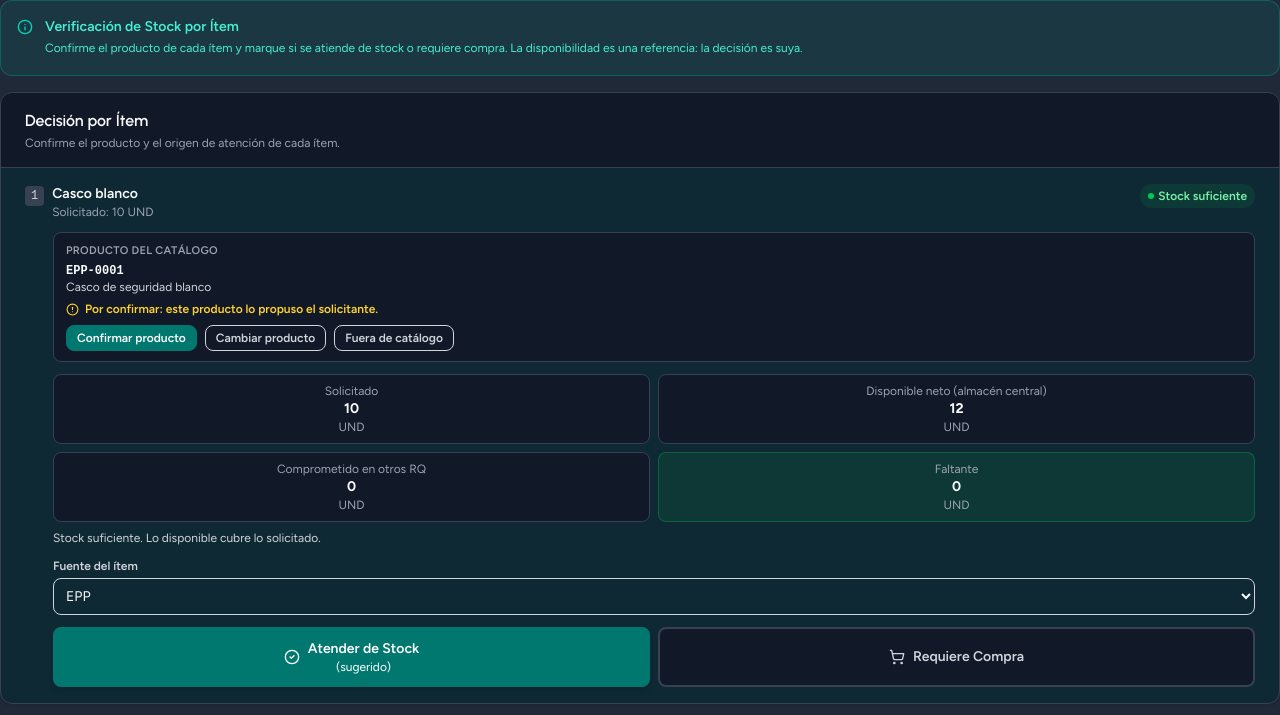
Test: StockCheckPanel — un guardado fallido desde el buscador no deja al teclado sin foco › el mensaje de error queda enlazado al buscador para quien lo vuelve a enfocar
Click the button with aria-label "Cambiar el producto vinculado del ítem 1": [266, 338] box [205,325,326,351]
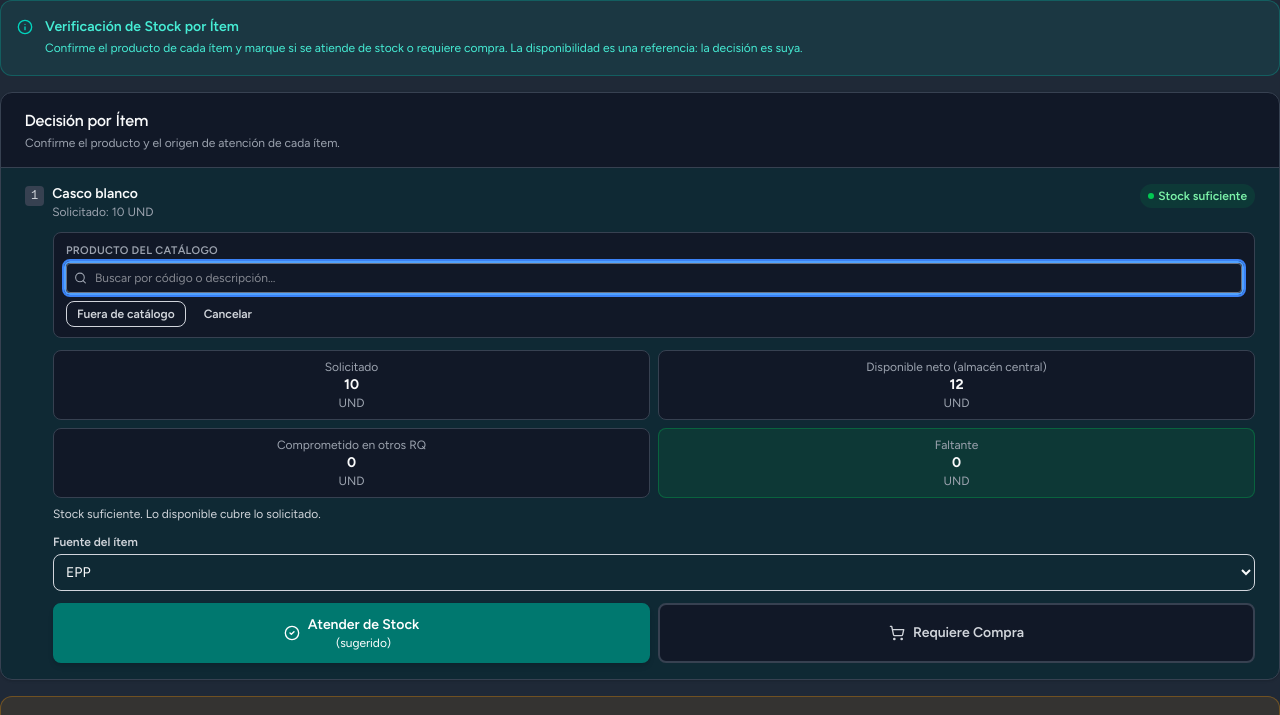
In the dropdown named "Buscar el producto del catálogo": [654, 278] box [66,263,1242,293], type "amarillo"
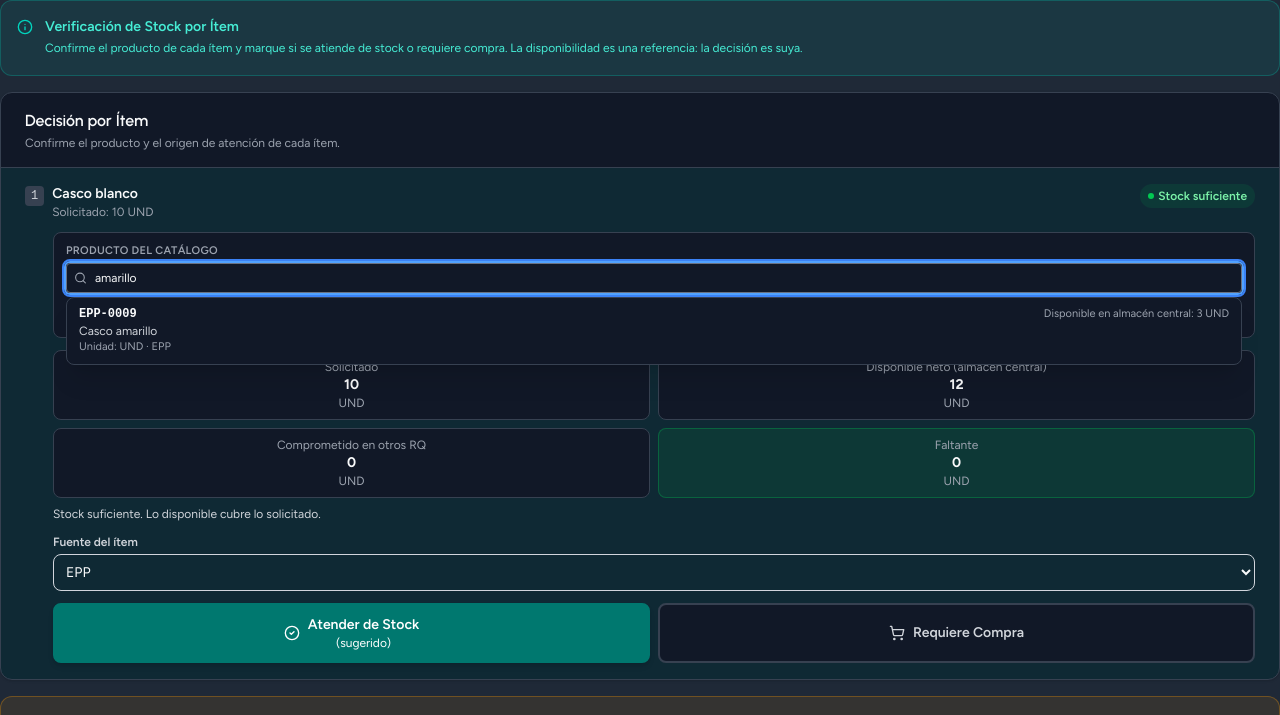
Click the option "EPP-0009": [108, 314] box [67,298,1241,364]
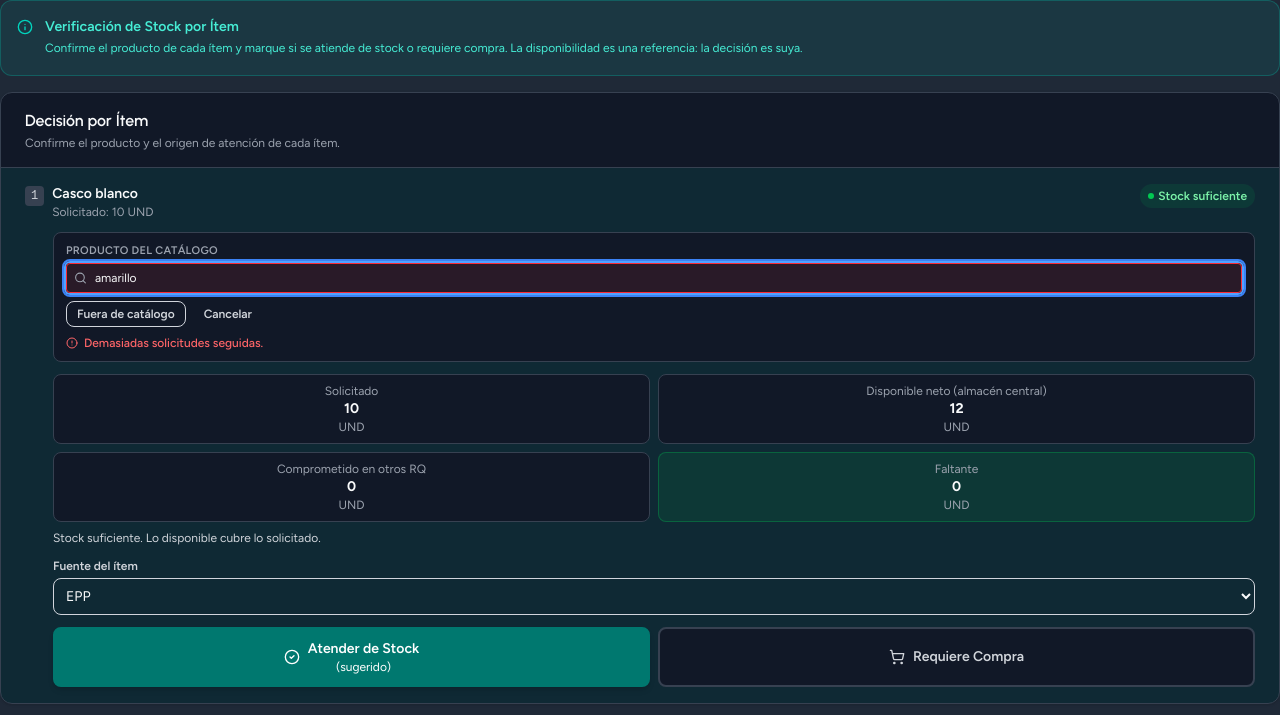
Expected: the message "Demasiadas solicitudes seguidas." is shown, [66,336,263,350]
Expected: the message reads "Demasiadas solicitudes seguidas.", [84,336,263,350]
